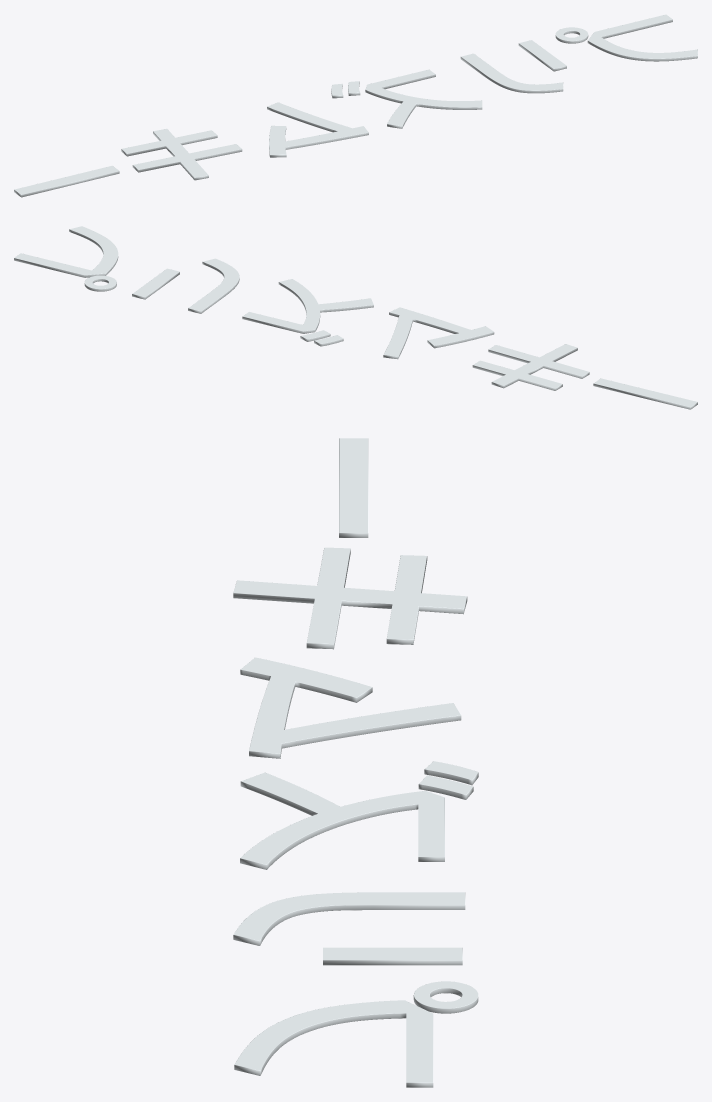
File: stage2_key_name.obj
The picture shows the model from 3 angles, top to bottom: view 1: azimuth 30°, elevation 25°; view 2: azimuth 150°, elevation 25°; view 3: azimuth 270°, elevation 25°; orthographic projection. The views are drawn at different scales.
Parts seen in each view (by area): view 1: stage2_key_name; view 2: stage2_key_name; view 3: stage2_key_name.
Boxes of the visible parts, bbox=[...] form: stage2_key_name: bbox=[14, 14, 697, 197]; stage2_key_name: bbox=[14, 226, 697, 409]; stage2_key_name: bbox=[233, 438, 478, 1087].
Size of the model in its own units: 2.75 by 0.0103 by 0.4427.
1 material, 1 textured.
